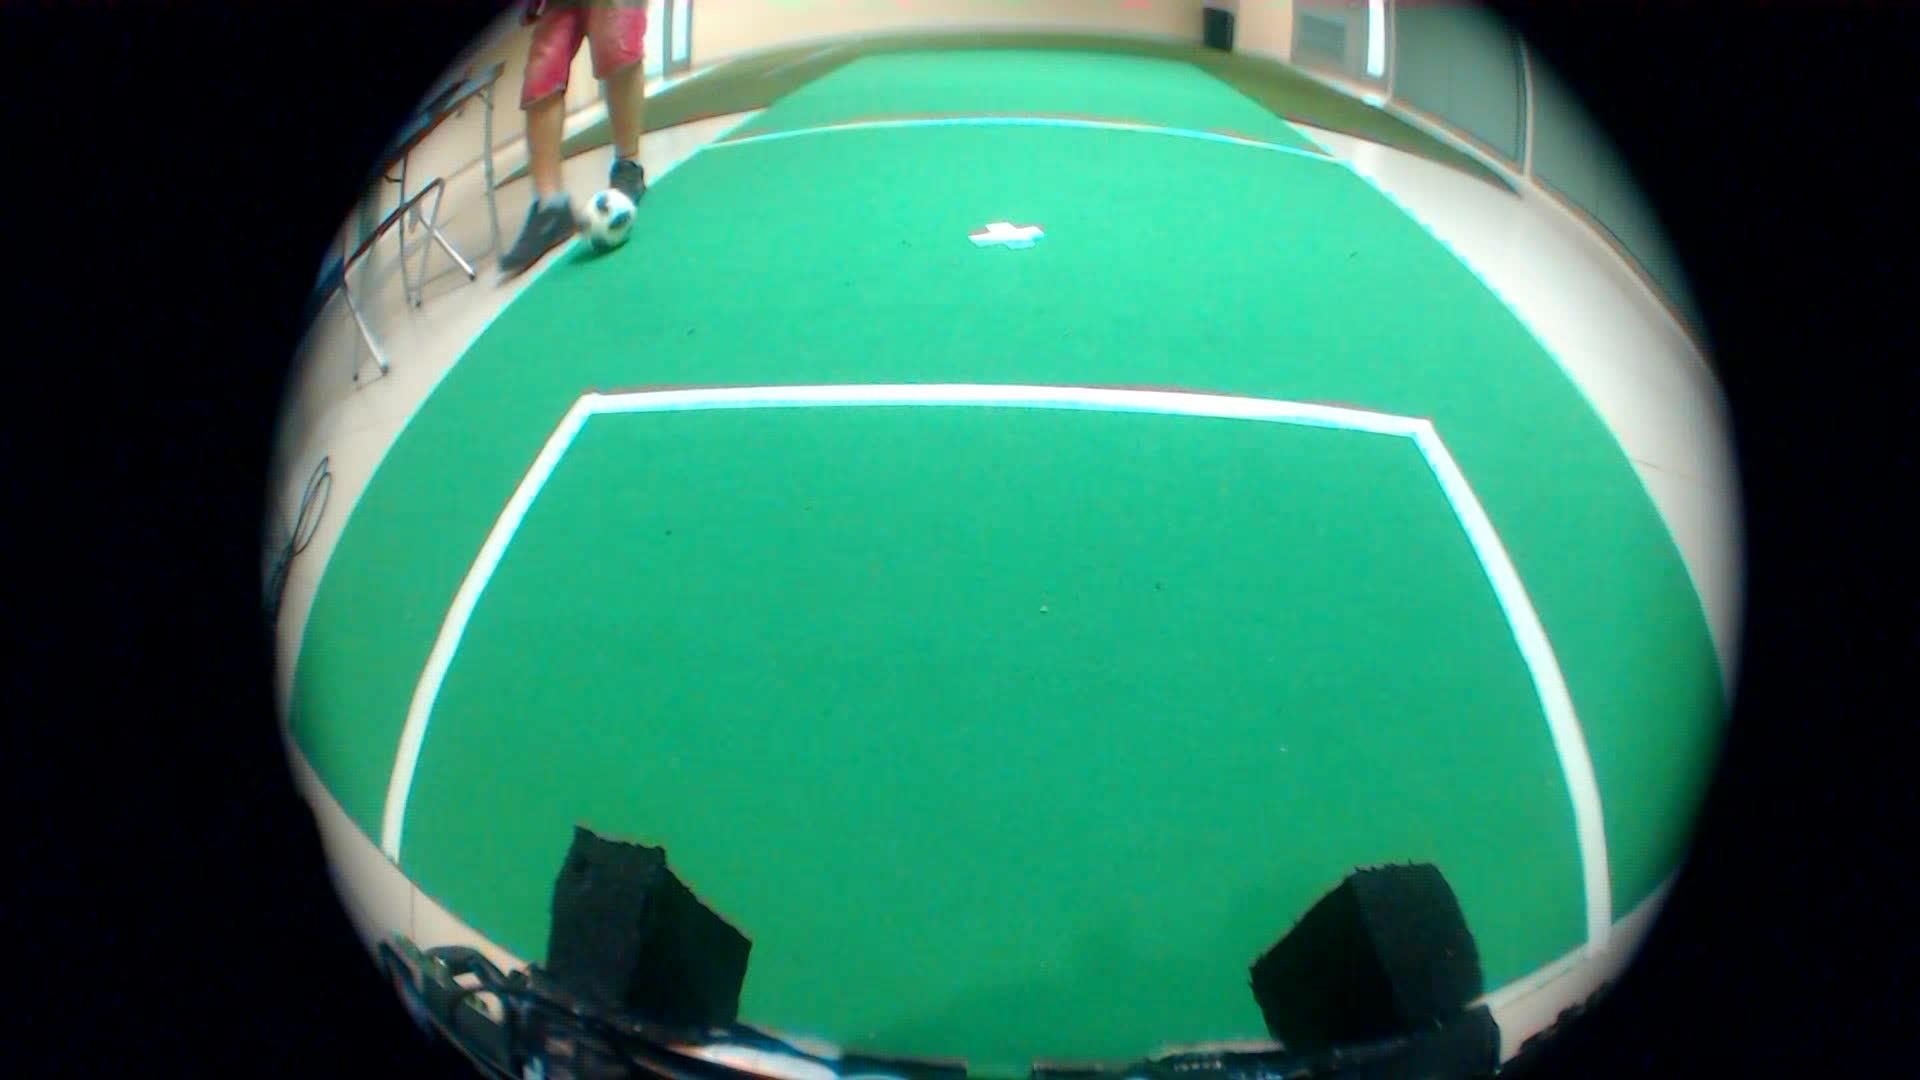ball: (551, 156, 645, 258)
